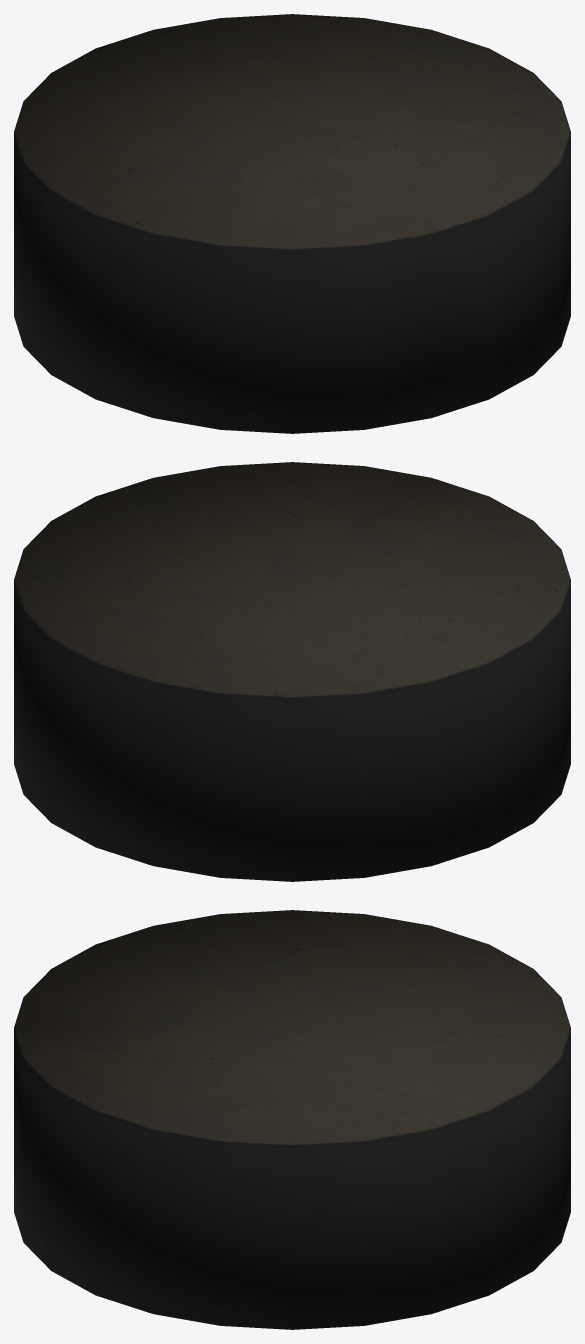
Rendered from truck-tyre-unit-tripo-original.glb.
The picture shows the model from 3 angles, top to bottom: view 1: azimuth 30°, elevation 25°; view 2: azimuth 150°, elevation 25°; view 3: azimuth 270°, elevation 25°; orthographic projection.
Visible parts, largest first — view 1: Authored_surface_002; view 2: Authored_surface_002; view 3: Authored_surface_002.
Part boxes in pixels (x1,y1,x2,y2): Authored_surface_002: [14, 14, 570, 433]; Authored_surface_002: [14, 462, 570, 881]; Authored_surface_002: [14, 910, 570, 1329].
Size of the model in its own units: 1 by 0.3654 by 1.
Materials: 1 (1 with a texture image).
